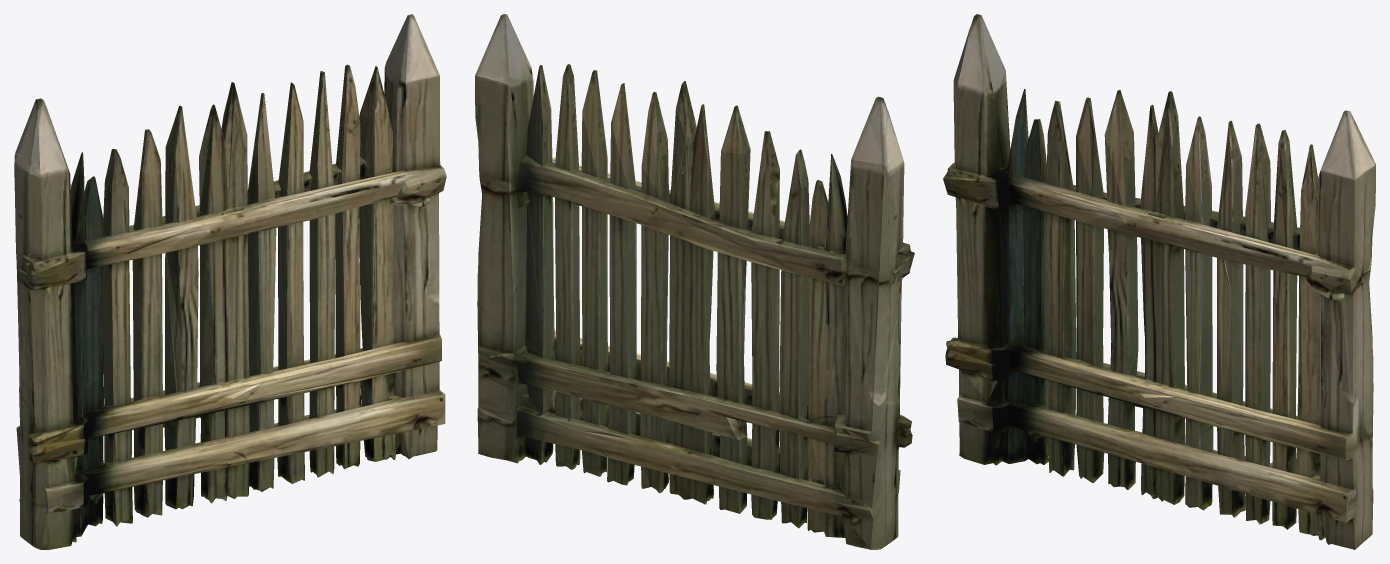
The model's file is combat_barricade_01.glb.
The picture shows the model from 3 angles, left to right: view 1: azimuth 30°, elevation 25°; view 2: azimuth 150°, elevation 25°; view 3: azimuth 330°, elevation 25°; orthographic projection.
Visible parts, largest first — view 1: geometry_0; view 2: geometry_0; view 3: geometry_0.
Boxes of the visible parts, bbox=[...] form: geometry_0: bbox=[14, 14, 446, 549]; geometry_0: bbox=[475, 14, 914, 549]; geometry_0: bbox=[943, 14, 1375, 549].
Bounding box in the file's own units: 0.974 × 0.9989 × 0.1257.
1 material, 1 textured.
